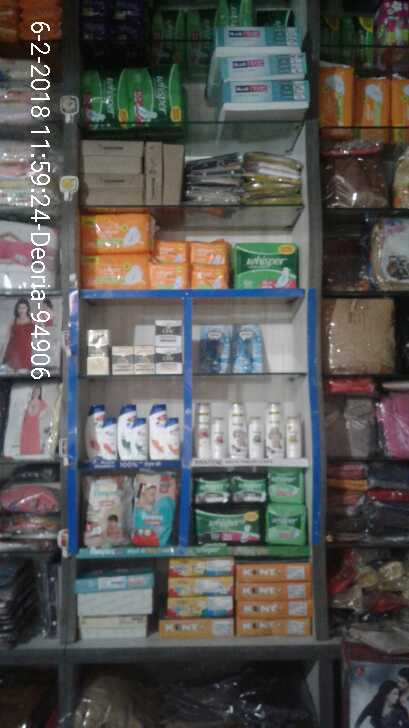venus: (235, 321, 265, 373), (205, 325, 235, 373)
